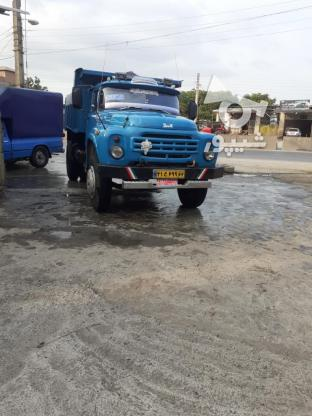car: (153, 169, 185, 179)
